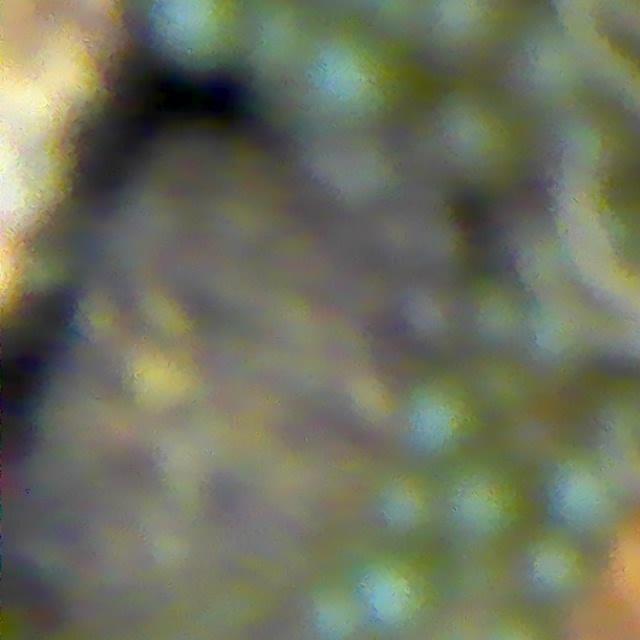SeaGrape: (423, 85, 531, 187), (401, 369, 504, 468), (306, 39, 409, 134), (353, 554, 457, 640), (545, 453, 636, 542), (135, 0, 257, 65), (506, 19, 594, 108), (312, 131, 403, 216), (368, 463, 445, 545), (521, 530, 597, 607), (459, 278, 535, 355), (249, 4, 318, 85), (454, 466, 527, 541), (525, 294, 596, 367), (299, 576, 375, 640)
